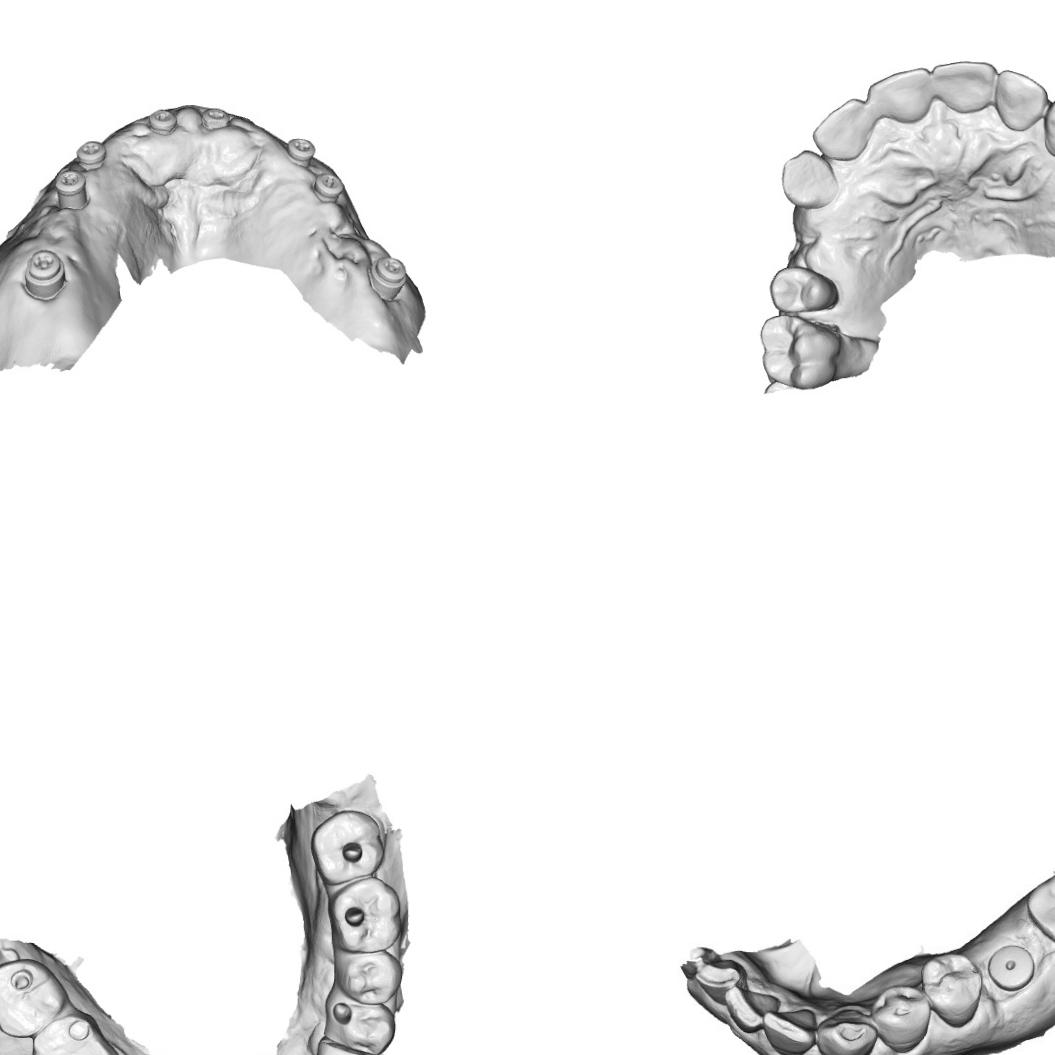canine: (778, 148, 840, 210), (817, 1008, 881, 1055), (307, 1036, 384, 1055), (1042, 96, 1055, 159)
implant: (990, 942, 1036, 991), (145, 106, 180, 138)
implant_minus: (308, 170, 347, 206), (196, 105, 232, 133)
implant_plus: (22, 246, 70, 304), (367, 254, 408, 302), (52, 168, 92, 212), (73, 137, 108, 172), (286, 134, 320, 168)
incisor: (810, 96, 871, 162), (866, 65, 932, 124), (992, 68, 1050, 134), (930, 58, 997, 115), (763, 1004, 823, 1055), (729, 982, 780, 1032), (700, 952, 745, 1000)
molar: (308, 808, 390, 890), (324, 874, 405, 955), (757, 312, 840, 391), (0, 954, 66, 1041), (28, 1011, 117, 1055), (1023, 861, 1055, 953)
premolar: (324, 994, 403, 1055), (334, 948, 405, 1007), (766, 264, 840, 318), (874, 987, 932, 1050), (927, 957, 982, 1022)
